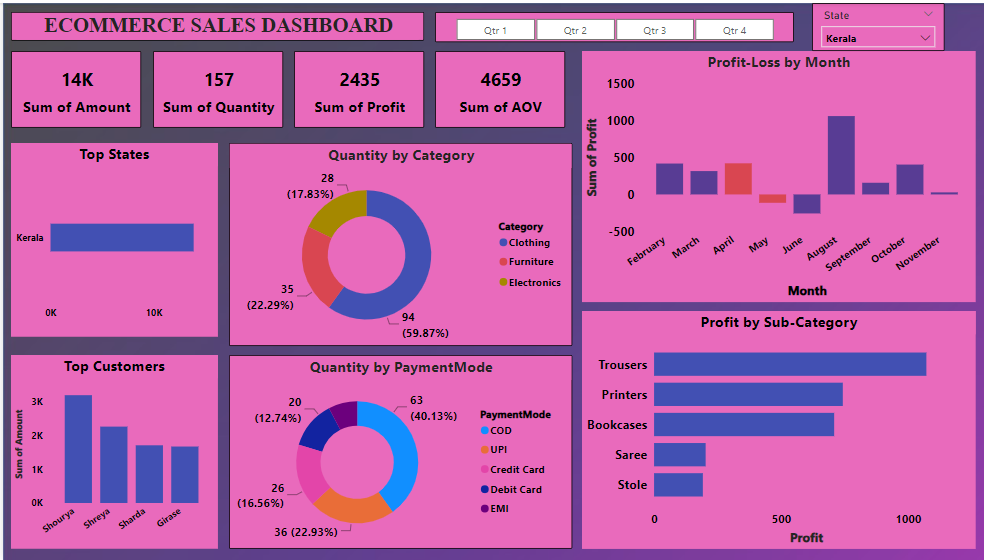

What the dashboard file says about the page in this screenshot:
{"tool":"powerbi","page":{"name":"Page 1","canvas":[1280,720],"ordinal":0},"visuals":[{"type":"textbox","title":"ECOMMERCE  SALES  DASHBOARD","box":[10.1,11.7,533.5,36.9],"z":0},{"type":"columnChart","title":" Profit-Loss by Month","fields":{"Category":["Orders.Order Date.Variation.Date Hierarchy.Month"],"Y":["Details.Profit"]},"box":[746.5,62.1,508.3,323.8],"z":1000},{"type":"barChart","title":"Profit by Sub-Category","fields":{"Category":["Details.Sub-Category"],"Y":["Details.Profit"]},"box":[746.5,397.6,508.3,307],"z":2000},{"type":"donutChart","title":"Quantity by Category","fields":{"Category":["Details.Category"],"Y":["Details.Quantity"]},"box":[291.9,181.2,442.9,261.7],"z":3000},{"type":"donutChart","title":"Quantity by PaymentMode","fields":{"Y":["Details.Quantity"],"Category":["Details.PaymentMode"]},"box":[291.9,454.6,442.9,250],"z":4000},{"type":"card","fields":{"Values":["Details.Amount"]},"box":[10.1,62.1,167.8,99],"z":5000},{"type":"card","fields":{"Values":["Details.Quantity"]},"box":[192.9,62.1,167.8,99],"z":6000},{"type":"card","fields":{"Values":["Details.Profit"]},"box":[375.8,62.1,167.8,99],"z":7000},{"type":"card","fields":{"Values":["Details.AOV"]},"box":[557,62.1,167.8,99],"z":8000},{"type":"barChart","title":"Top States  ","fields":{"Category":["Orders.State"],"Y":["Details.Amount"]},"box":[10.1,181.2,266.7,250],"z":9000},{"type":"columnChart","title":"  Top Customers","fields":{"Category":["Orders.CustomerName"],"Y":["Details.Amount"]},"box":[10.1,454.6,266.7,250],"z":10000},{"type":"slicer","fields":{"Values":["Orders.Order Date.Variation.Date Hierarchy.Quarter"]},"box":[557,11.7,463,38.6],"z":11000},{"type":"slicer","fields":{"Values":["Orders.State"]},"box":[1043.5,0,171.1,62.1],"z":12000}]}

Visuals, with their boxes in screenshot pixels (x1, y1, x2, y2), scaled from the page's 1280x720 canvas onto the 984x560 screenshot:
"ECOMMERCE  SALES  DASHBOARD" textbox: 8, 9, 418, 38
" Profit-Loss by Month" columnChart: 574, 48, 965, 300
"Profit by Sub-Category" barChart: 574, 309, 965, 548
"Quantity by Category" donutChart: 224, 141, 565, 344
"Quantity by PaymentMode" donutChart: 224, 354, 565, 548
card - Details.Amount: 8, 48, 137, 125
card - Details.Quantity: 148, 48, 277, 125
card - Details.Profit: 289, 48, 418, 125
card - Details.AOV: 428, 48, 557, 125
"Top States  " barChart: 8, 141, 213, 335
"  Top Customers" columnChart: 8, 354, 213, 548
slicer - Orders.Order Date.Variation.Date Hierarchy.Quarter: 428, 9, 784, 39
slicer - Orders.State: 802, 0, 934, 48
